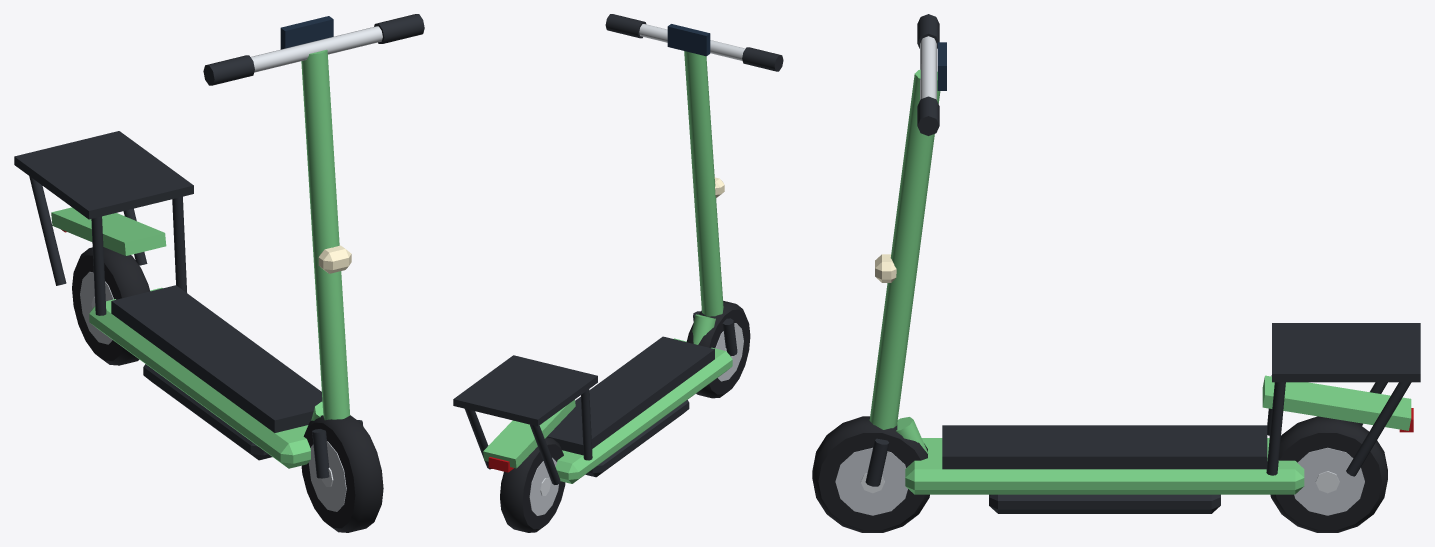
Rendered from escooter.glb.
3 renders of one model, left to right at view 1: azimuth 30°, elevation 25°; view 2: azimuth 150°, elevation 25°; view 3: azimuth 270°, elevation 25°, orthographic. The views are drawn at different scales.
Visible parts, largest first — view 1: body, fork, wheel_F, wheel_R; view 2: body, fork, wheel_R, wheel_F; view 3: body, fork, wheel_R, wheel_F.
Boxes of the visible parts, <box> form: body: <box>14,131,323,468</box>; fork: <box>203,14,424,478</box>; wheel_F: <box>301,415,383,532</box>; wheel_R: <box>72,247,150,365</box>; body: <box>453,314,732,484</box>; fork: <box>605,14,783,355</box>; wheel_R: <box>500,437,565,532</box>; wheel_F: <box>686,300,750,398</box>; body: <box>896,323,1420,513</box>; fork: <box>865,14,946,486</box>; wheel_R: <box>1270,416,1387,532</box>; wheel_F: <box>812,416,929,532</box>.
Bounding box in the file's own units: 0.52 × 1.13 × 1.31.
